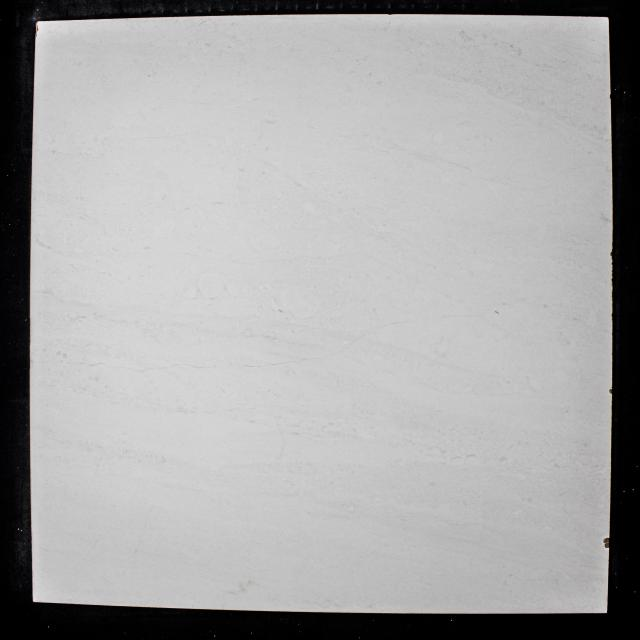edge-chipping: (602, 537, 610, 549), (35, 22, 39, 39), (609, 388, 612, 394), (610, 251, 612, 258)
